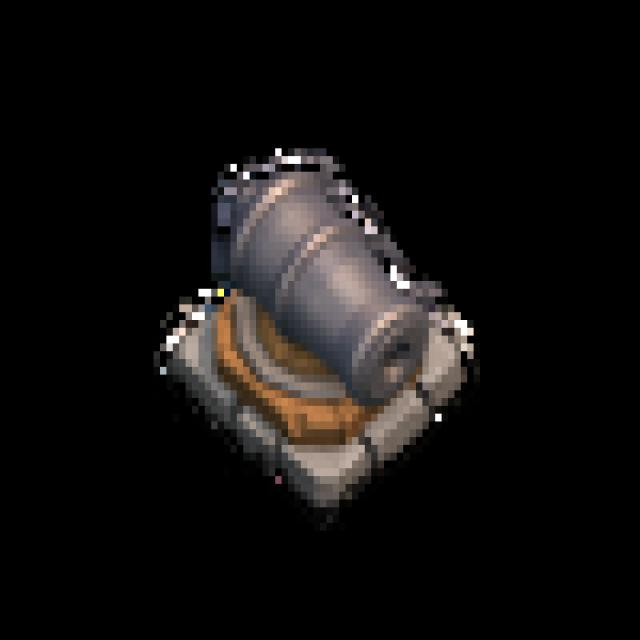cannon: (142, 130, 500, 544)
